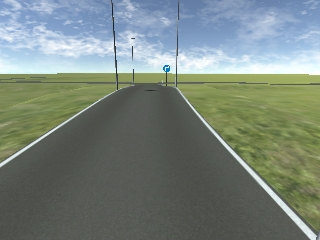right: (162, 64, 171, 73)
